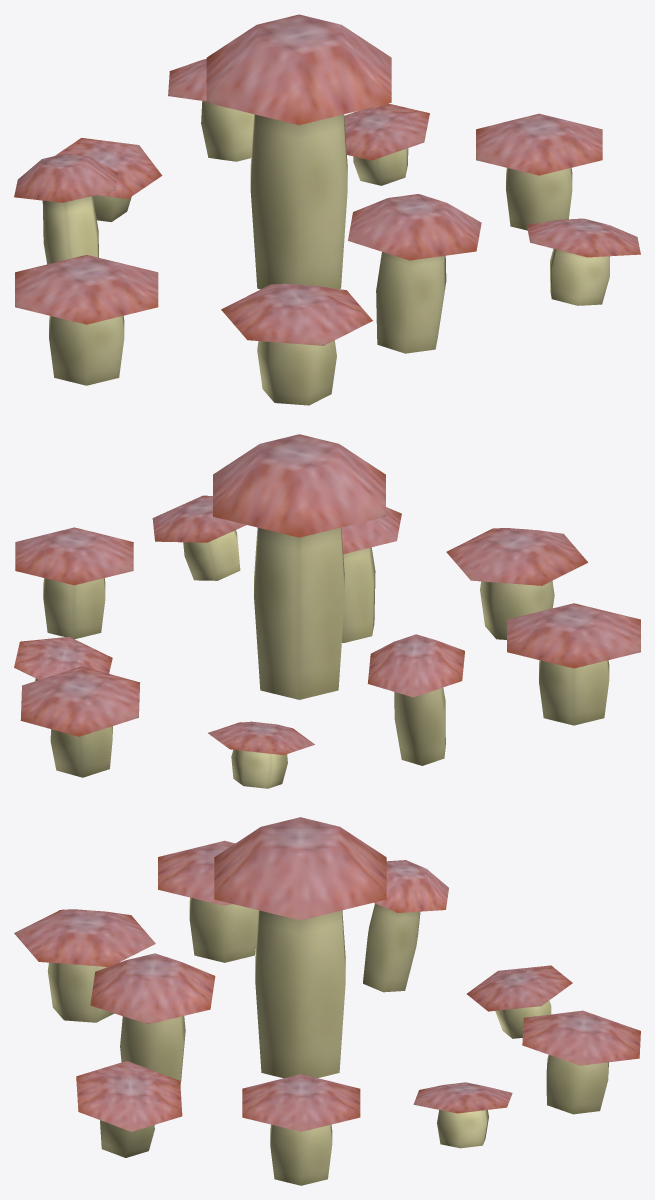
Rendered from Mushrooms_2.FBX.
3 views of the same model, one above another, from view 1: azimuth 30°, elevation 25°; view 2: azimuth 150°, elevation 25°; view 3: azimuth 270°, elevation 25° (orthographic). The views are drawn at different scales.
Visible parts, largest first — view 1: Mushrooms_2; view 2: Mushrooms_2; view 3: Mushrooms_2.
Boxes of the visible parts, left/top/right/bottom form: Mushrooms_2: left=14, top=14, right=640, bottom=405; Mushrooms_2: left=14, top=434, right=640, bottom=788; Mushrooms_2: left=14, top=817, right=640, bottom=1185.
Bounding box in the file's own units: 85.49 × 33.37 × 79.18.
